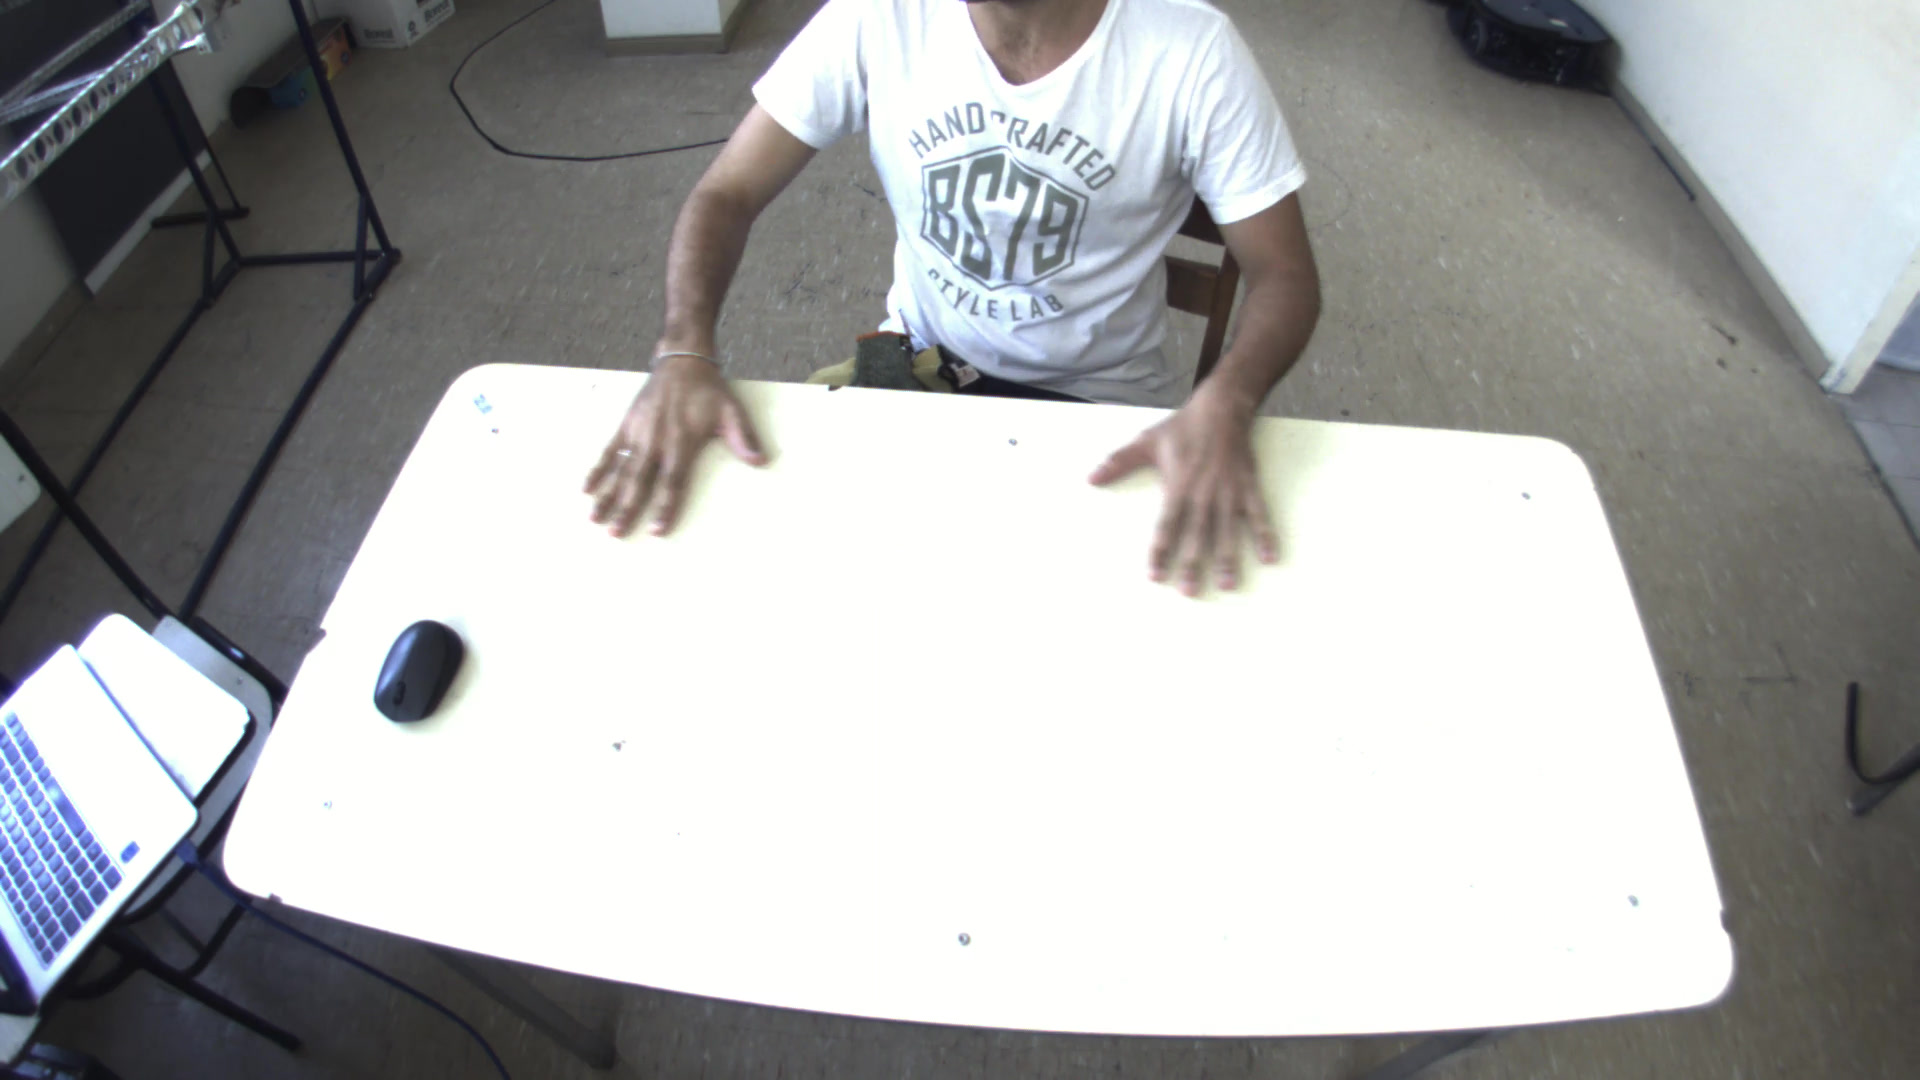hand: (1087, 378, 1298, 603), (563, 332, 777, 546)
